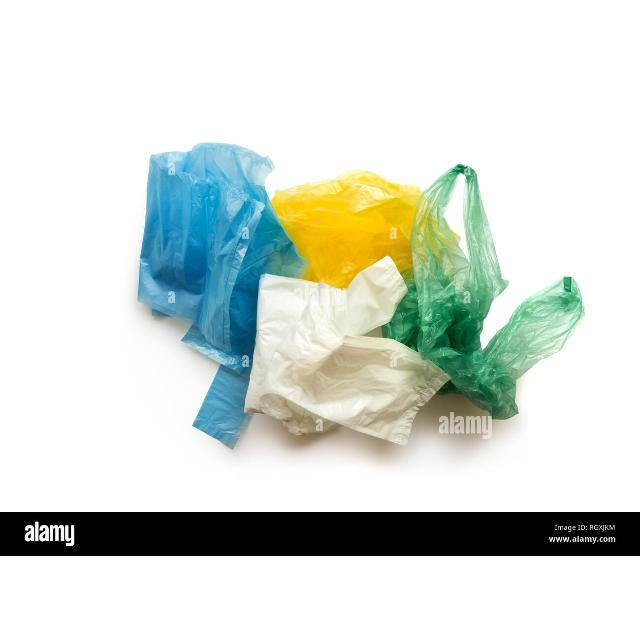plastic: (138, 143, 583, 446)
